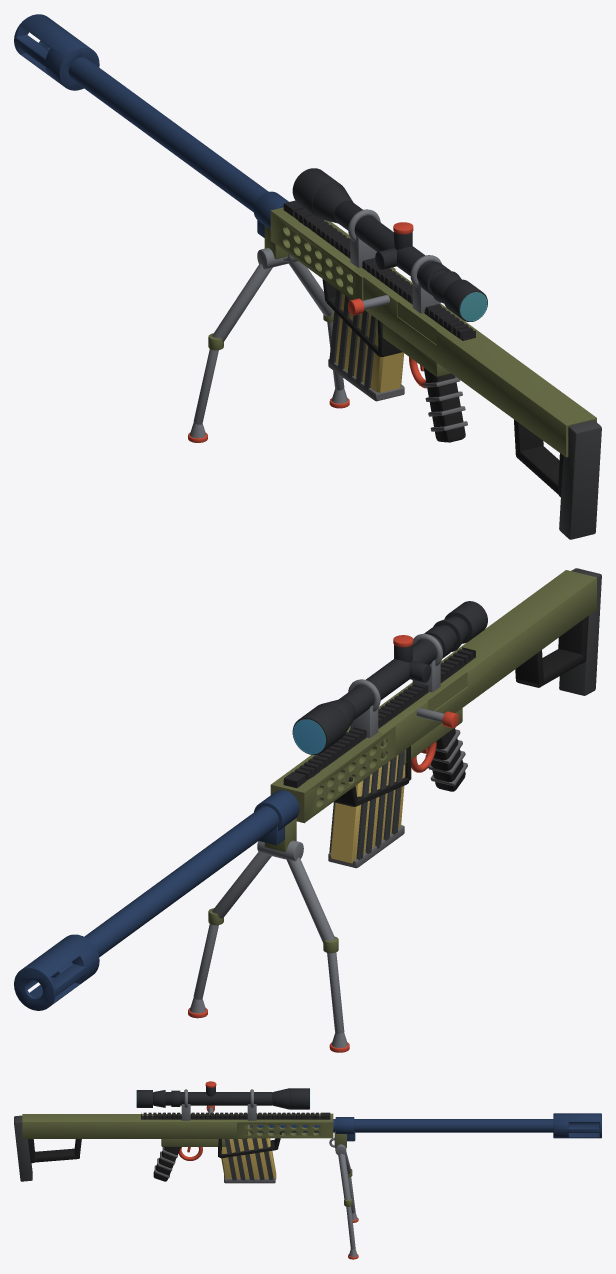
The picture shows the model from 3 angles, top to bottom: view 1: azimuth 30°, elevation 25°; view 2: azimuth 150°, elevation 25°; view 3: azimuth 270°, elevation 25°; orthographic projection. The views are drawn at different scales.
Visible parts, largest first — view 1: body, mag; view 2: body, mag; view 3: body, mag.
Boxes of the visible parts, x1=… form: body: x1=14, y1=14, x2=601, y2=539; mag: x1=328, y1=294, x2=404, y2=401; body: x1=14, y1=568, x2=601, y2=1052; mag: x1=328, y1=755, x2=405, y2=868; body: x1=14, y1=1081, x2=601, y2=1259; mag: x1=221, y1=1138, x2=276, y2=1183.
Size of the model in its own units: 0.236 by 0.4161 by 1.43.
